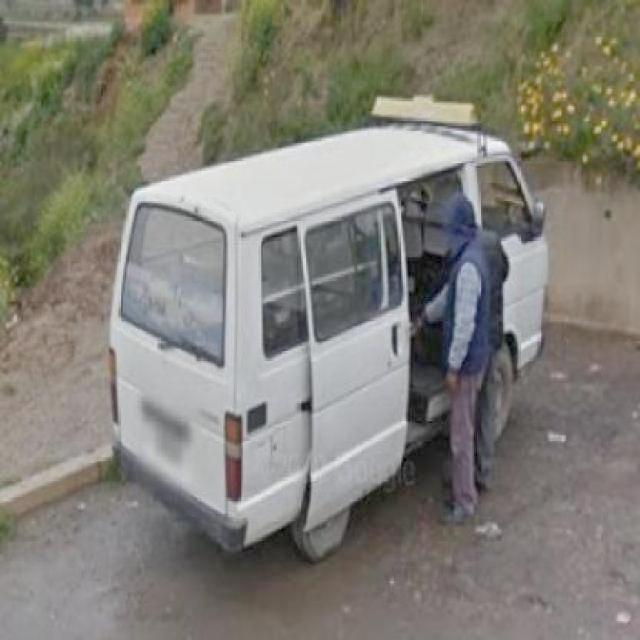car: (112, 105, 560, 552)
